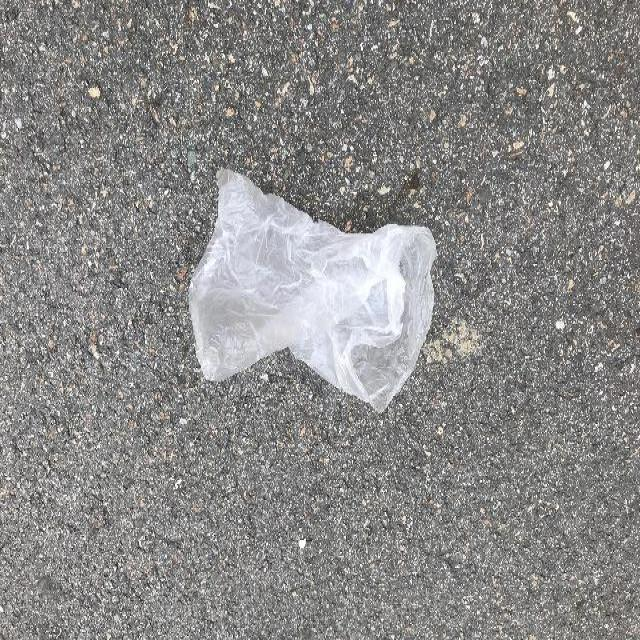plastic bag: (190, 156, 444, 408)
